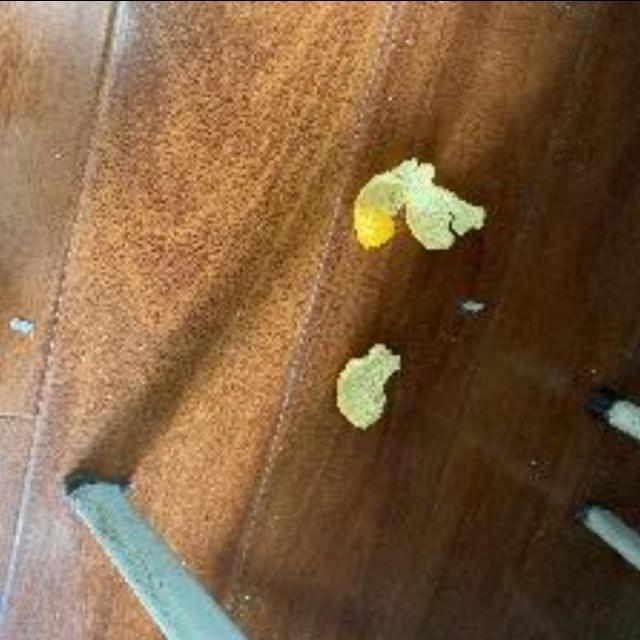orange peel: (351, 156, 492, 262), (332, 336, 404, 432)
